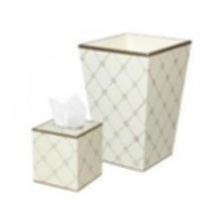plastic_box: (72, 25, 197, 176), (27, 112, 108, 194)
tissue: (44, 86, 93, 133)
